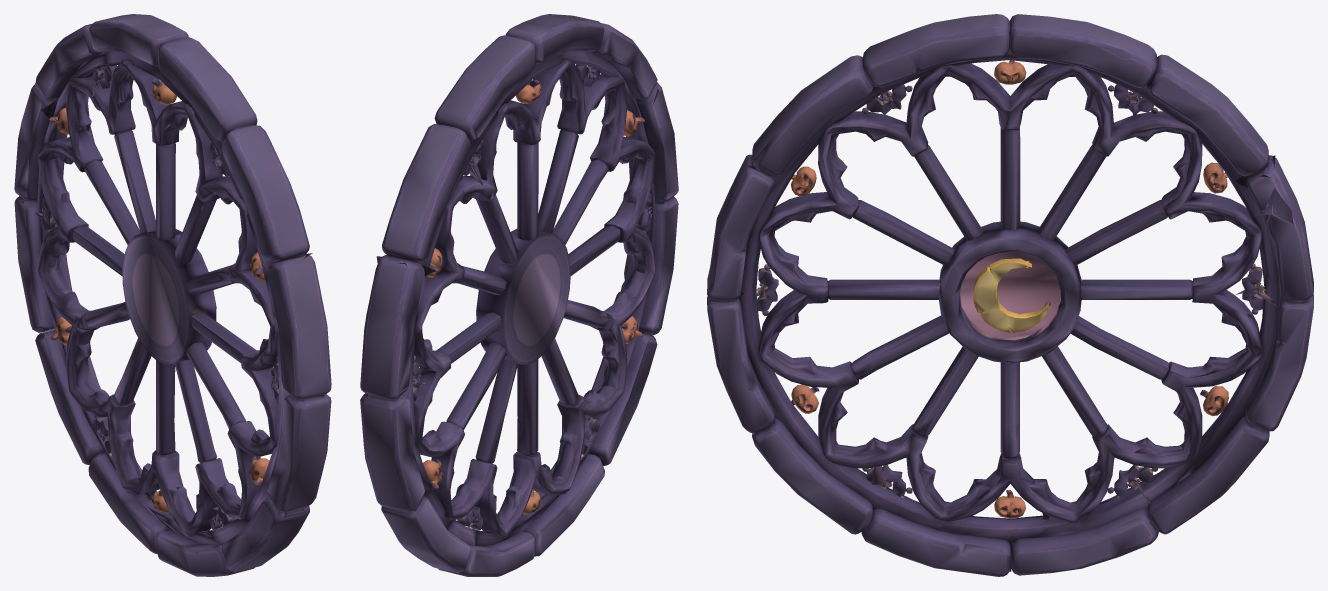
The model's file is L2_RoseWindow_LOD1.fbx.
3 renders of one model, left to right at view 1: azimuth 30°, elevation 25°; view 2: azimuth 150°, elevation 25°; view 3: azimuth 270°, elevation 25°, orthographic. The views are drawn at different scales.
Parts seen in each view (by area): view 1: L2_RoseWindow_LOD1; view 2: L2_RoseWindow_LOD1; view 3: L2_RoseWindow_LOD1.
Part boxes in pixels (x1,y1,x2,y2): L2_RoseWindow_LOD1: (14,14,331,576); L2_RoseWindow_LOD1: (360,14,678,576); L2_RoseWindow_LOD1: (707,14,1313,576).
Size of the model in its own units: 1.28 by 14.01 by 14.01.
1 material, 1 textured.
